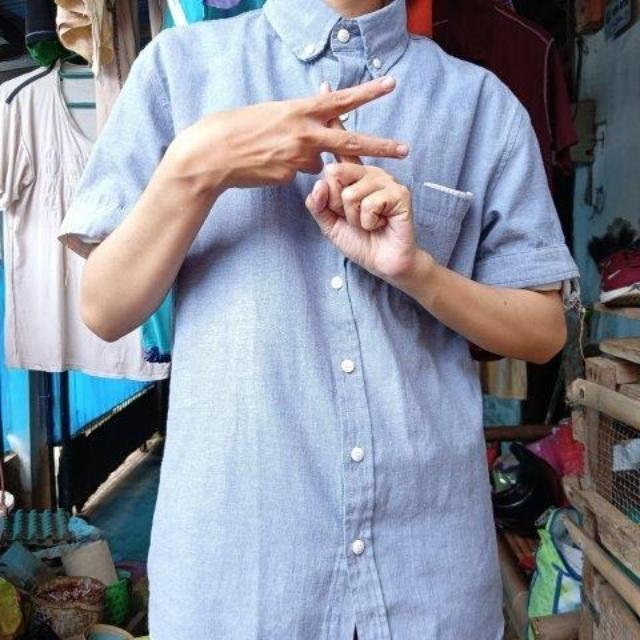F: (241, 50, 428, 301)
